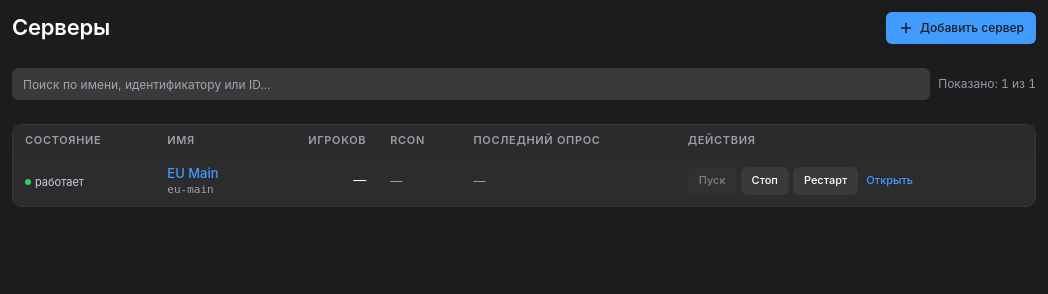
Scenario: ServersPage — внешний сервер › сетевой сбой действия не остаётся необработанным и показывает сообщение
Expected: the link "EU Main" is shown, [167,165,219,181]
Step 1. Click the button "Стоп" → (765, 181), box [741,167,789,195]
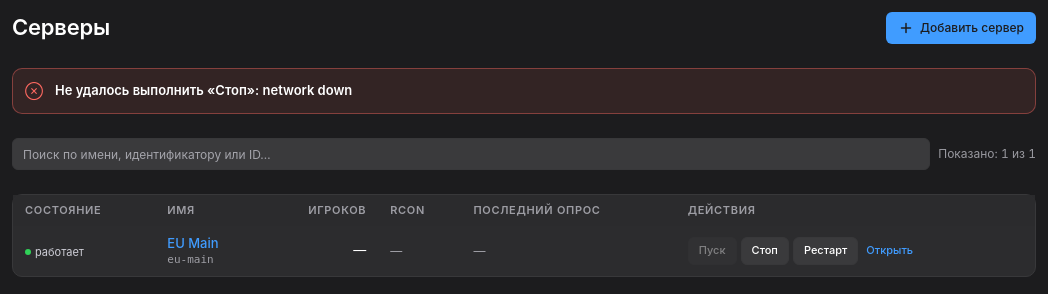
Expected: the text "Не удалось выполнить «Стоп»: network down" is shown, [55,82,352,98]
